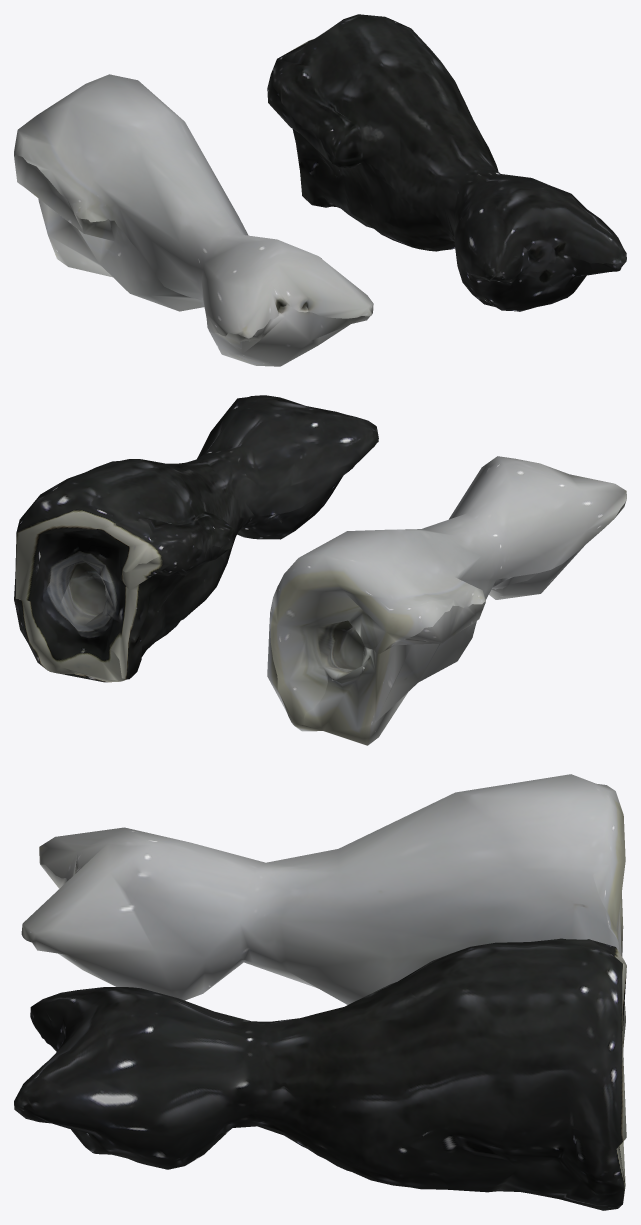
3 renders of one model, top to bottom at view 1: azimuth 30°, elevation 25°; view 2: azimuth 150°, elevation 25°; view 3: azimuth 270°, elevation 25°, orthographic. The views are drawn at different scales.
Visible parts, largest first — view 1: cat_figurines; view 2: cat_figurines; view 3: cat_figurines.
Part boxes in pixels (left/top/right/bottom): cat_figurines: left=14, top=14, right=626, bottom=366; cat_figurines: left=14, top=395, right=626, bottom=745; cat_figurines: left=14, top=774, right=626, bottom=1210.
Bounding box in the file's own units: 0.1174 × 0.0511 × 0.1152.
1 material, 1 textured.
